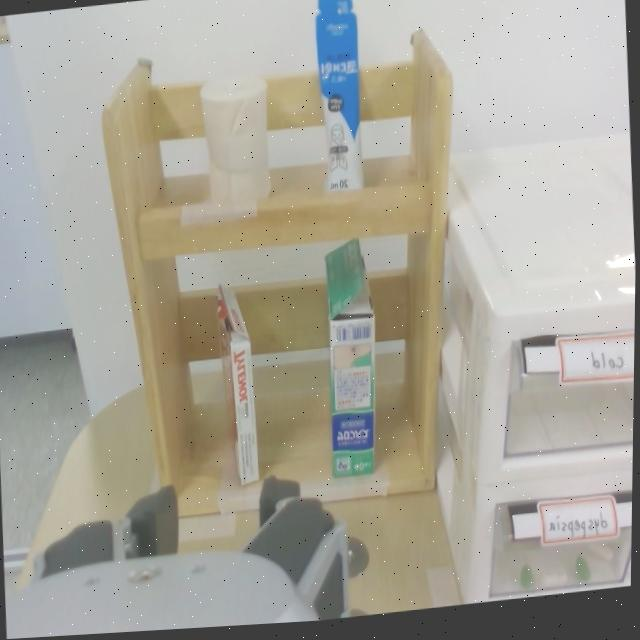bandage: (198, 70, 271, 210)
codaewon_syrup: (311, 0, 367, 202)
sore_patch: (317, 241, 385, 483)
tylenol: (210, 280, 264, 488)
